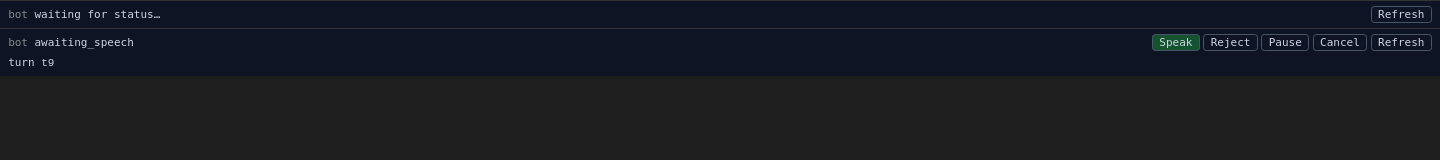
it: MeetingControls › shows the daemon error on the panel that asked
Click the button "Speak": coordinates (1176, 43) [1152,34,1200,51]
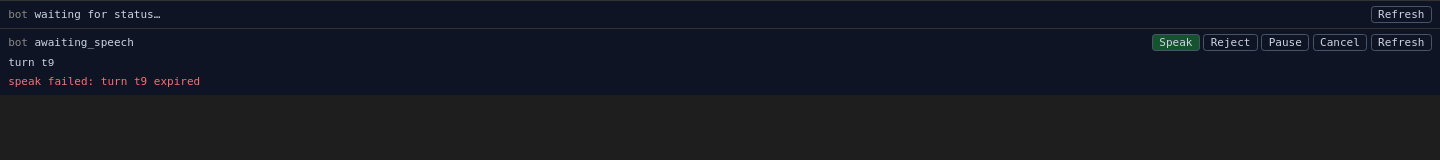
Check: the text "speak failed: turn t9 expired" is shown, box [8,75,200,88]
